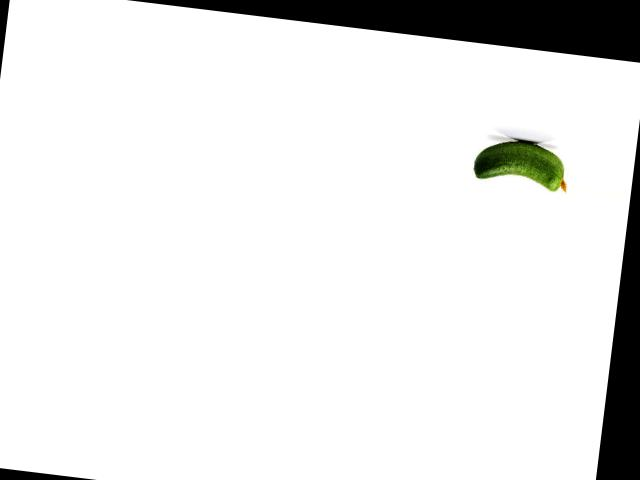cucumber: (471, 135, 572, 193)
